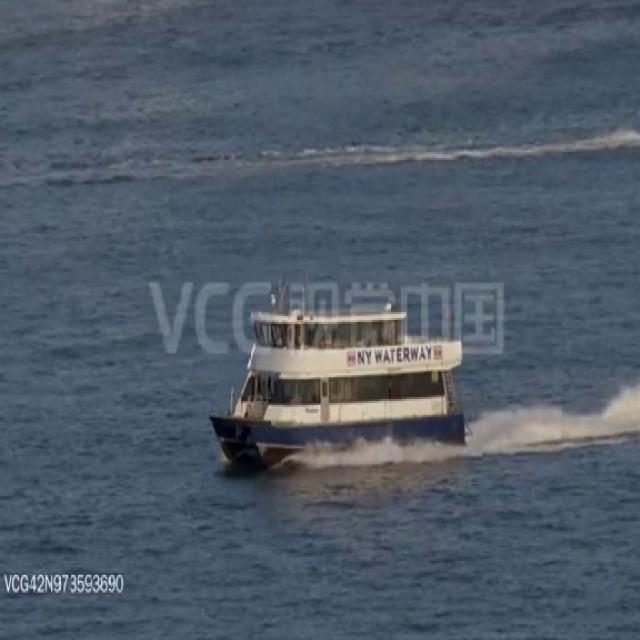houseboat: (220, 295, 470, 469)
